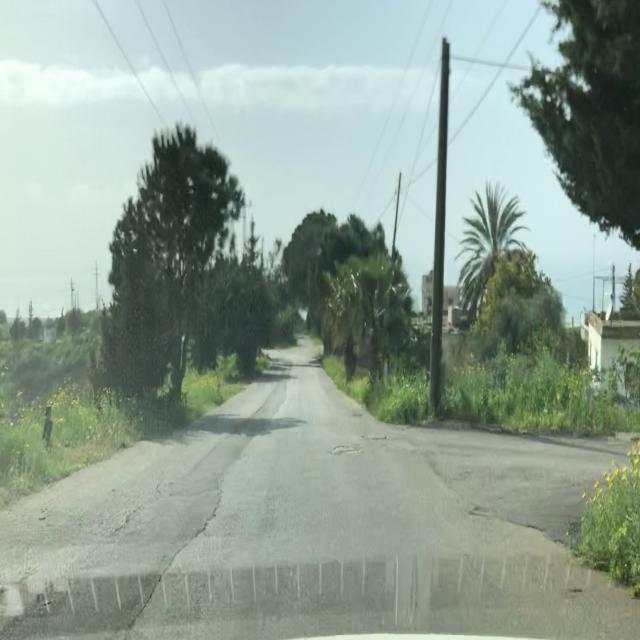Pothole: (332, 444, 362, 455), (364, 435, 390, 441)
